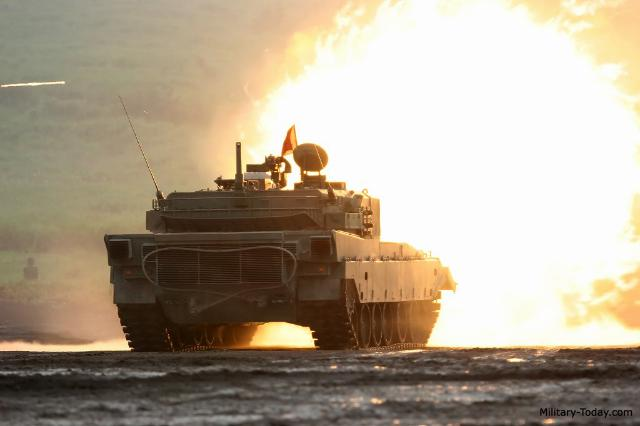tank: (112, 161, 440, 339)
